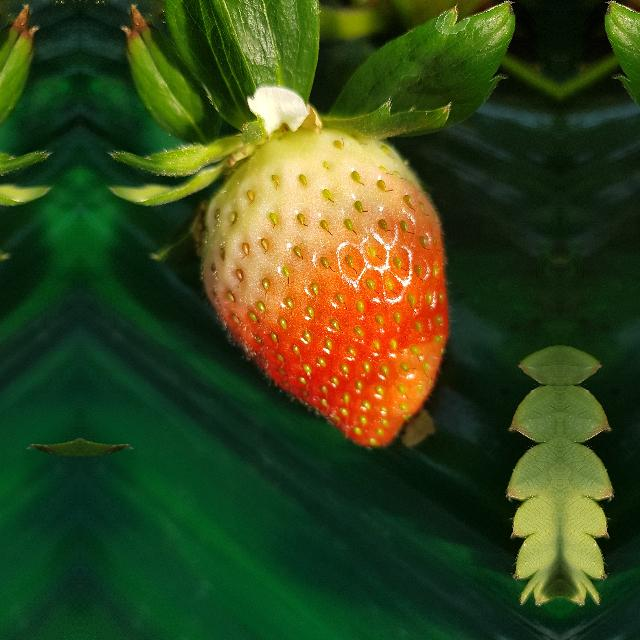Health_75: (198, 125, 450, 449)
